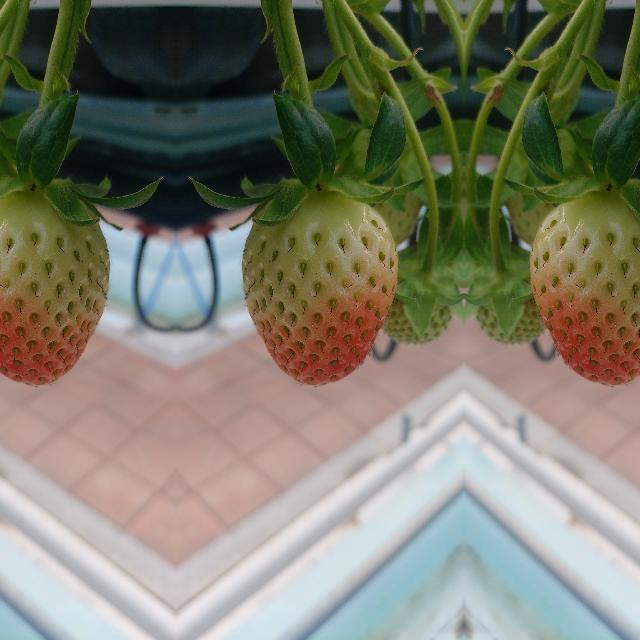Health_50: (240, 190, 396, 386), (0, 190, 110, 386), (530, 190, 640, 386)
